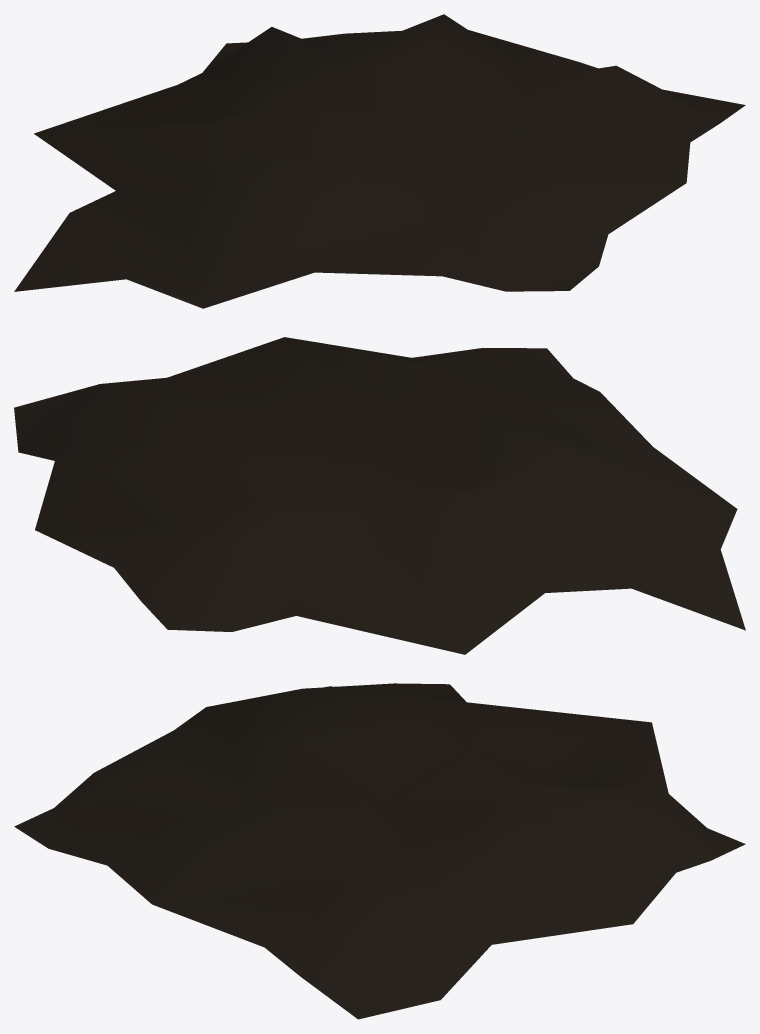
File: lump.glb
3 views of the same model, one above another, from view 1: azimuth 30°, elevation 25°; view 2: azimuth 150°, elevation 25°; view 3: azimuth 270°, elevation 25° (orthographic). The views are drawn at different scales.
Visible parts, largest first — view 1: lump; view 2: lump; view 3: lump.
Boxes of the visible parts, bbox=[...] form: lump: bbox=[14, 14, 745, 308]; lump: bbox=[14, 337, 745, 654]; lump: bbox=[14, 683, 745, 1019].
Size of the model in its own units: 3.37 by 0.4704 by 2.88.
Materials: 1 (1 with a texture image).
